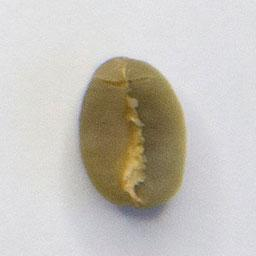premium: (75, 52, 191, 211)
